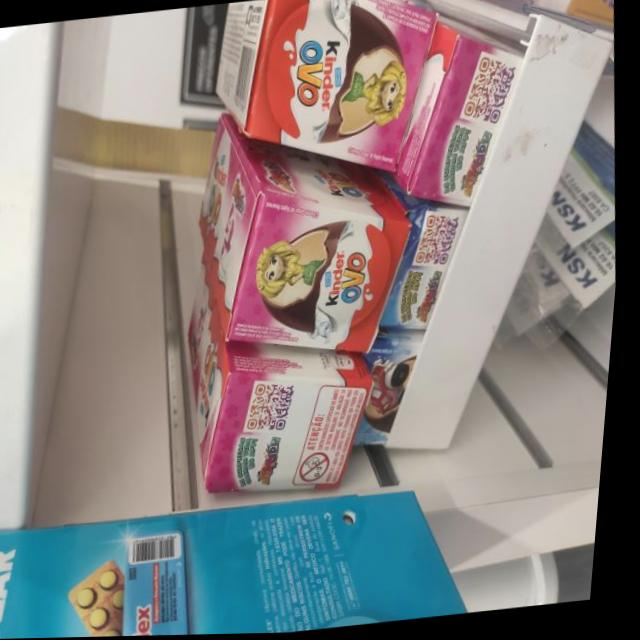qrcode: (461, 55, 523, 128), (251, 381, 305, 434), (417, 214, 467, 269)
